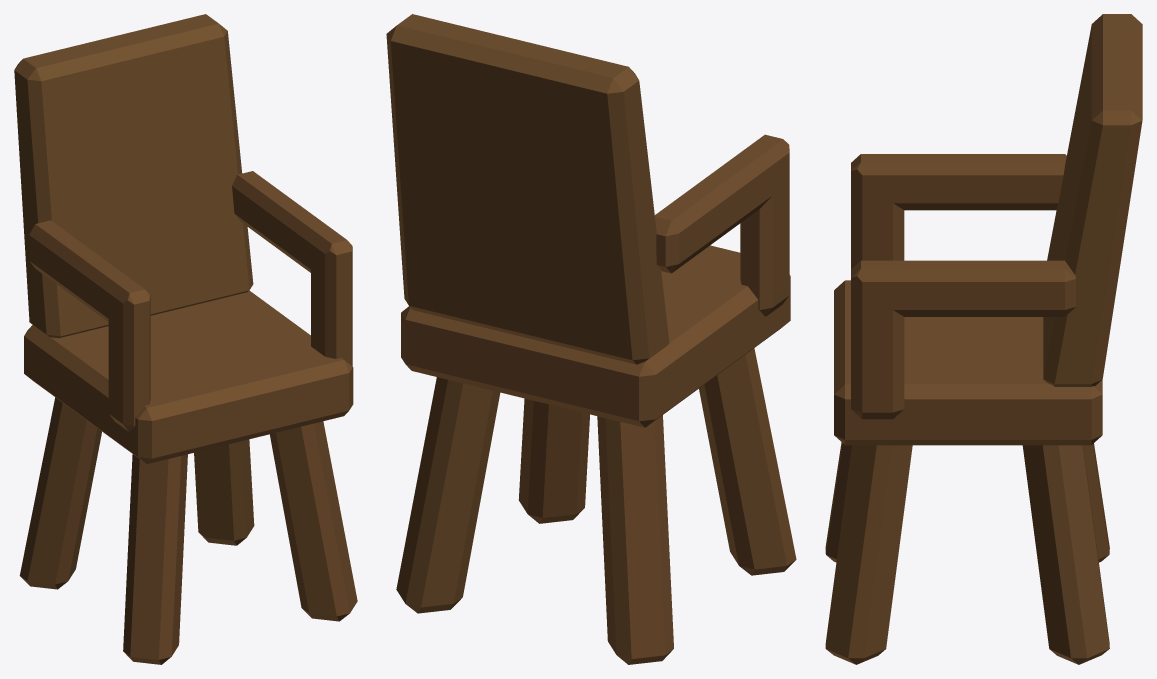
File: chair_a_230.gltf
The picture shows the model from 3 angles, left to right: view 1: azimuth 30°, elevation 25°; view 2: azimuth 150°, elevation 25°; view 3: azimuth 270°, elevation 25°; orthographic projection. The views are drawn at different scales.
Visible parts, largest first — view 1: chair_a002; view 2: chair_a002; view 3: chair_a002.
Part boxes in pixels (<box>): chair_a002: <box>14,14,357,664</box>; chair_a002: <box>386,14,796,664</box>; chair_a002: <box>825,14,1142,664</box>.
Bounding box in the file's own units: 0.4269 × 0.8984 × 0.4719.
Materials: 1 (1 with a texture image).
